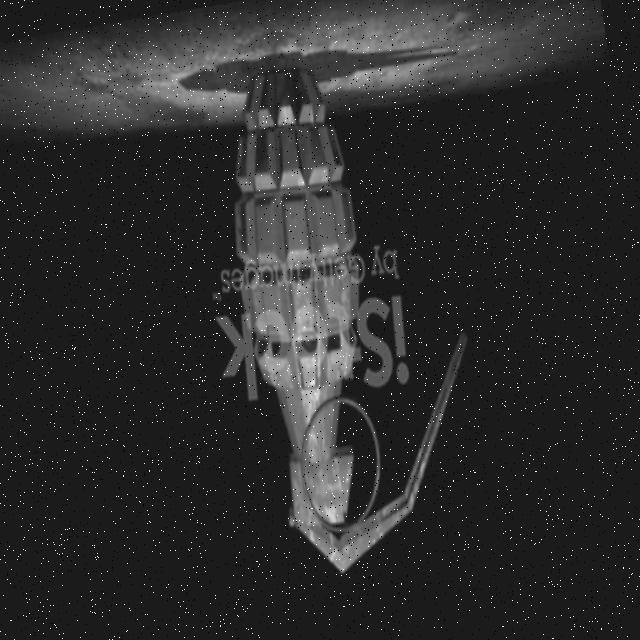grenade: (193, 53, 508, 588)
